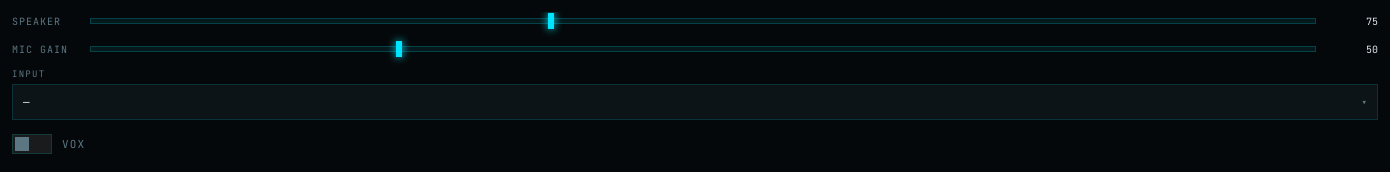
Test: TestAudioControlsDevices › renders input device select when inputs are provided
The width and height of the screenshot is (1390, 172).
Expected: the text "Input" is shown, 12,68 -> 45,80
Click the button named "Input".
click(27, 102)  # box 12,84 -> 1378,120
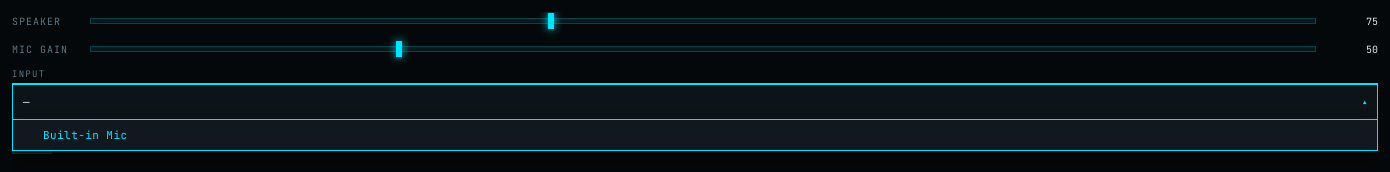
Result: the option "Built-in Mic" is shown at 13,120 -> 1377,150
